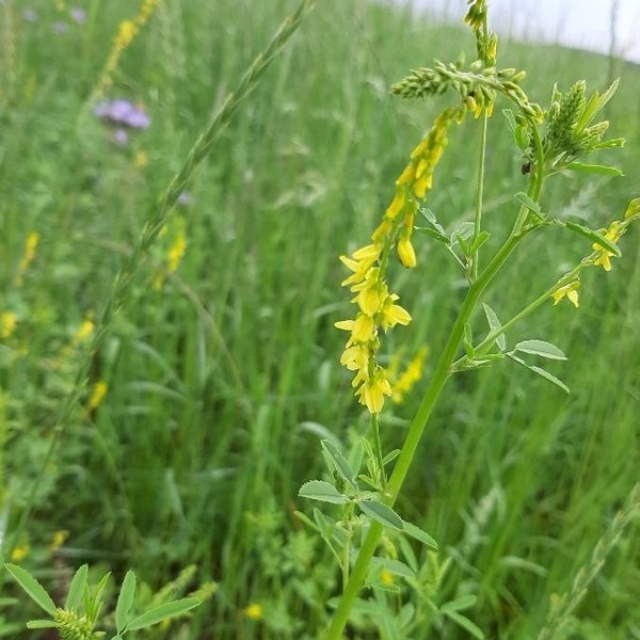obstacle: (347, 37, 589, 579)
